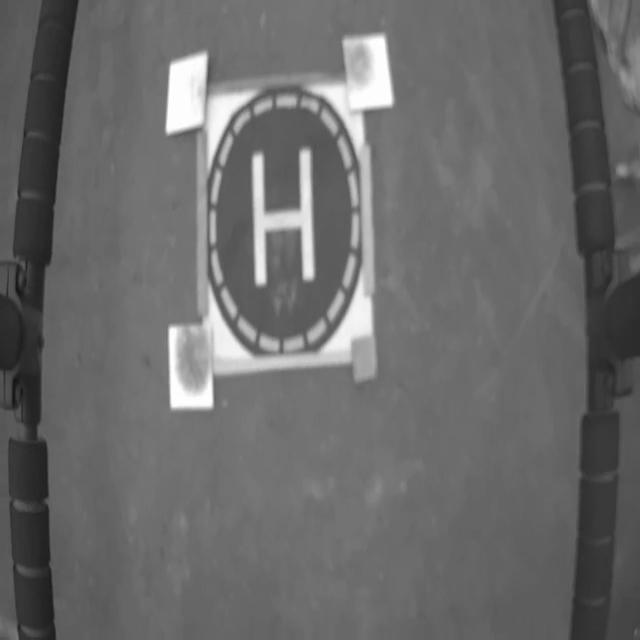Helipad: (251, 147, 316, 287)
